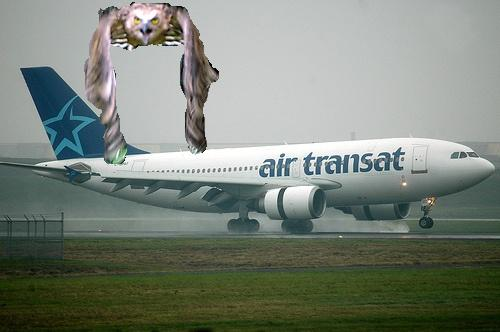tampered: (85, 3, 219, 164)
